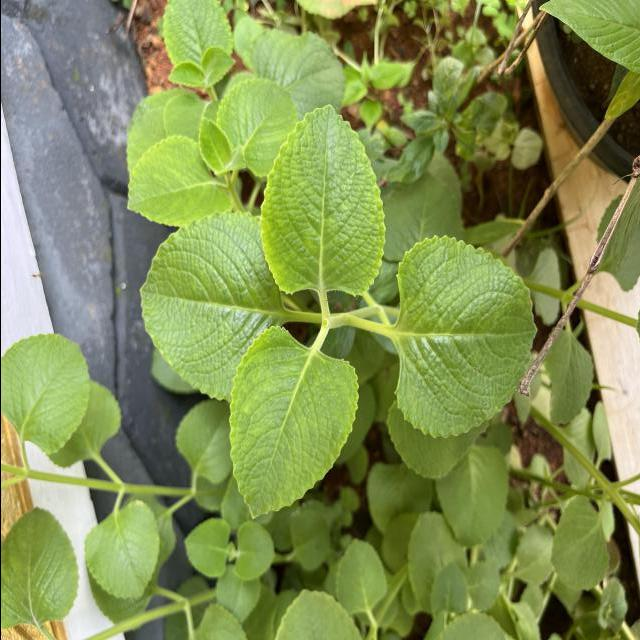Plectranthus barbatus: (388, 232, 540, 443), (222, 322, 362, 522), (258, 103, 387, 300), (136, 208, 262, 404), (0, 332, 91, 456), (124, 134, 233, 229), (0, 504, 79, 632), (215, 77, 298, 179), (84, 498, 160, 600), (548, 494, 608, 592), (333, 536, 388, 614), (181, 517, 229, 580), (233, 521, 274, 580)
